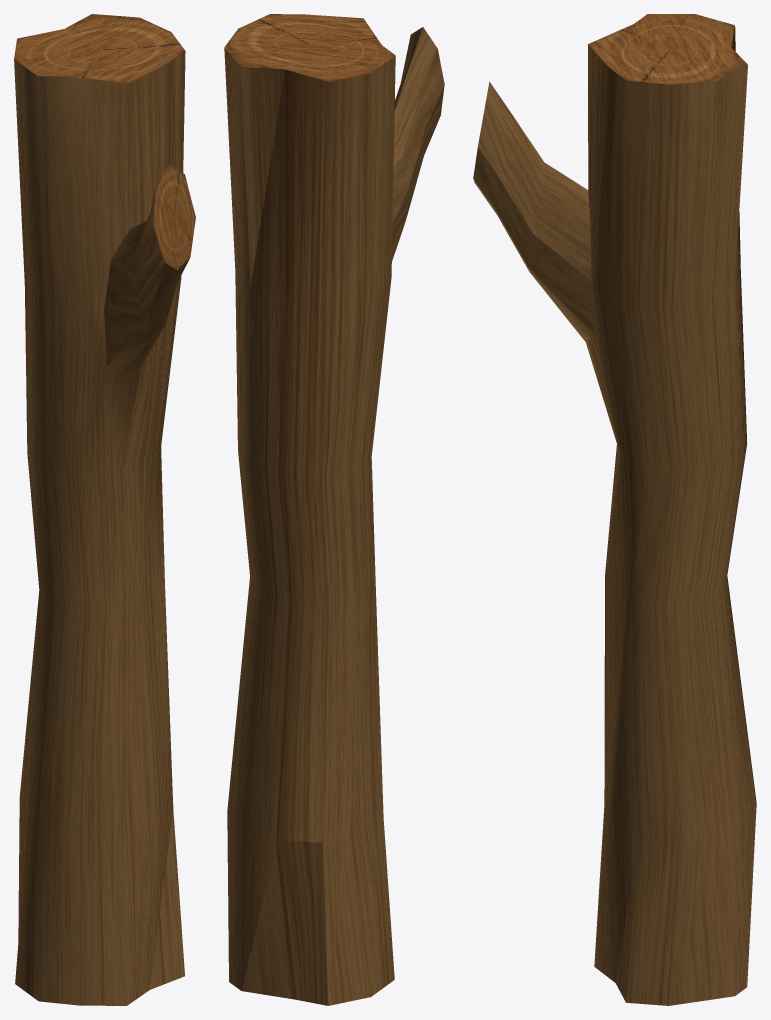
Rendered from stick 1.FBX.
The picture shows the model from 3 angles, left to right: view 1: azimuth 30°, elevation 25°; view 2: azimuth 150°, elevation 25°; view 3: azimuth 270°, elevation 25°; orthographic projection.
Parts seen in each view (by area): view 1: Cylinder001; view 2: Cylinder001; view 3: Cylinder001.
Part boxes in pixels (box(x1,y1,x2,y2)): Cylinder001: box(14, 14, 195, 1005); Cylinder001: box(224, 14, 444, 1005); Cylinder001: box(473, 14, 756, 1005).
Size of the model in its own units: 11.75 by 71.38 by 19.88.
